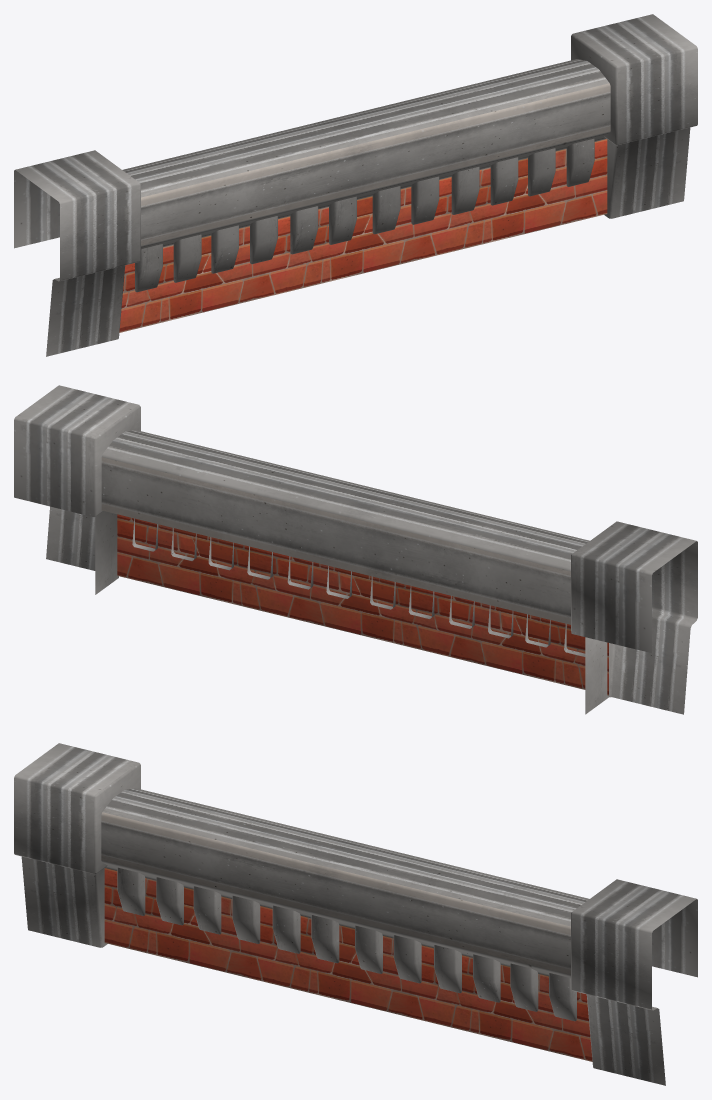
The model's file is SM_Roof_02a.fbx.
The picture shows the model from 3 angles, top to bottom: view 1: azimuth 30°, elevation 25°; view 2: azimuth 150°, elevation 25°; view 3: azimuth 330°, elevation 25°; orthographic projection.
Visible parts, largest first — view 1: SM_Roof_02a; view 2: SM_Roof_02a; view 3: SM_Roof_02a.
Boxes of the visible parts, <box> form: SM_Roof_02a: <box>14,14,697,356</box>; SM_Roof_02a: <box>14,385,697,714</box>; SM_Roof_02a: <box>14,743,697,1085</box>.
Bounding box in the file's own units: 640 × 80 × 158.
